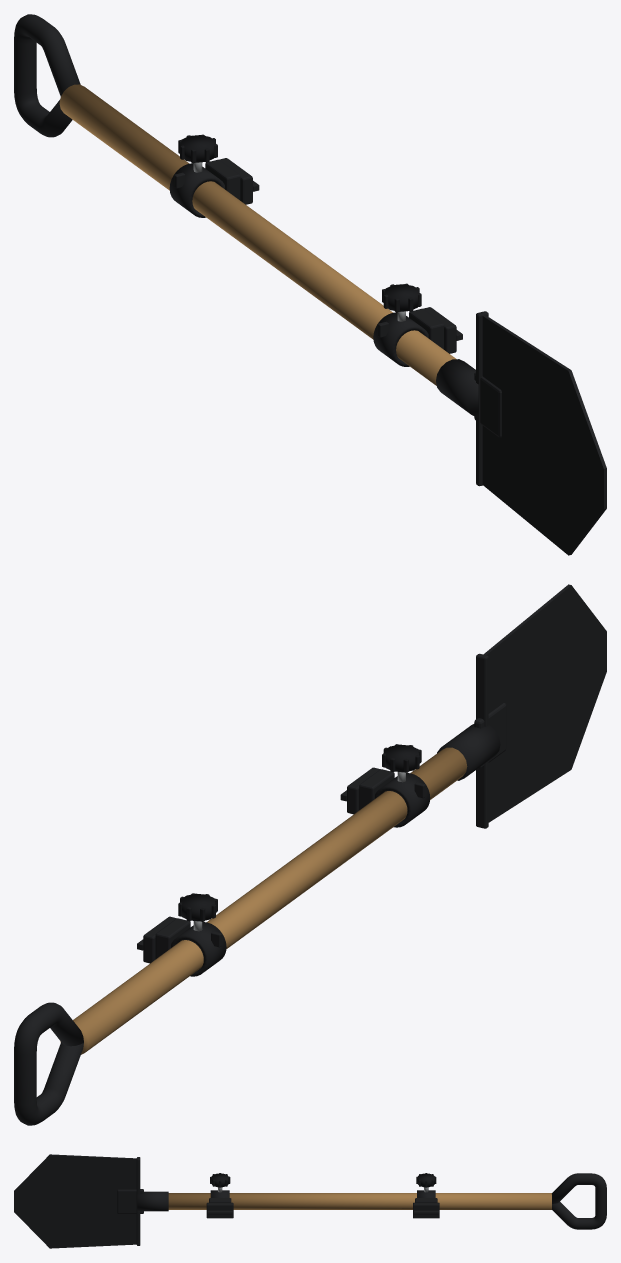
File: arbAcc_shovel.glb
3 renders of one model, top to bottom at view 1: azimuth 30°, elevation 25°; view 2: azimuth 150°, elevation 25°; view 3: azimuth 270°, elevation 25°, orthographic. The views are drawn at different scales.
Visible parts, largest first — view 1: blade.001, shaft, dgrip, ferrule, jaw1, jaw0, bladeNeck, step, brk0, brk1; view 2: blade.001, shaft, dgrip, step, ferrule, jaw0, jaw1, bladeNeck, brk0, brk1; view 3: blade.001, shaft, dgrip, ferrule, bladeNeck, step, cl1Block, cl0Block, knob0, knob1.
Boxes of the visible parts, x1,y1,x2,y2 form: blade.001: [482, 315, 606, 555]; shaft: [59, 84, 456, 385]; dgrip: [14, 14, 80, 137]; ferrule: [436, 359, 478, 417]; jaw1: [373, 312, 428, 366]; jaw0: [169, 163, 224, 217]; bladeNeck: [474, 372, 501, 437]; step: [476, 311, 488, 486]; brk0: [205, 159, 240, 200]; brk1: [409, 308, 444, 349]; blade.001: [483, 584, 606, 822]; shaft: [60, 747, 467, 1054]; dgrip: [14, 1002, 83, 1125]; step: [476, 653, 488, 828]; ferrule: [437, 724, 500, 780]; jaw0: [171, 922, 226, 976]; jaw1: [375, 773, 430, 827]; bladeNeck: [474, 703, 506, 768]; brk0: [155, 918, 190, 958]; brk1: [359, 769, 394, 809]; blade.001: [14, 1154, 136, 1248]; shaft: [168, 1193, 551, 1209]; dgrip: [552, 1173, 606, 1229]; ferrule: [137, 1191, 168, 1211]; bladeNeck: [117, 1189, 143, 1213]; step: [136, 1157, 140, 1245]; cl1Block: [206, 1202, 233, 1218]; cl0Block: [413, 1202, 439, 1218]; knob0: [417, 1173, 434, 1187]; knob1: [211, 1173, 228, 1187].
Size of the model in its own units: 0.0938 by 0.23 by 1.32.
